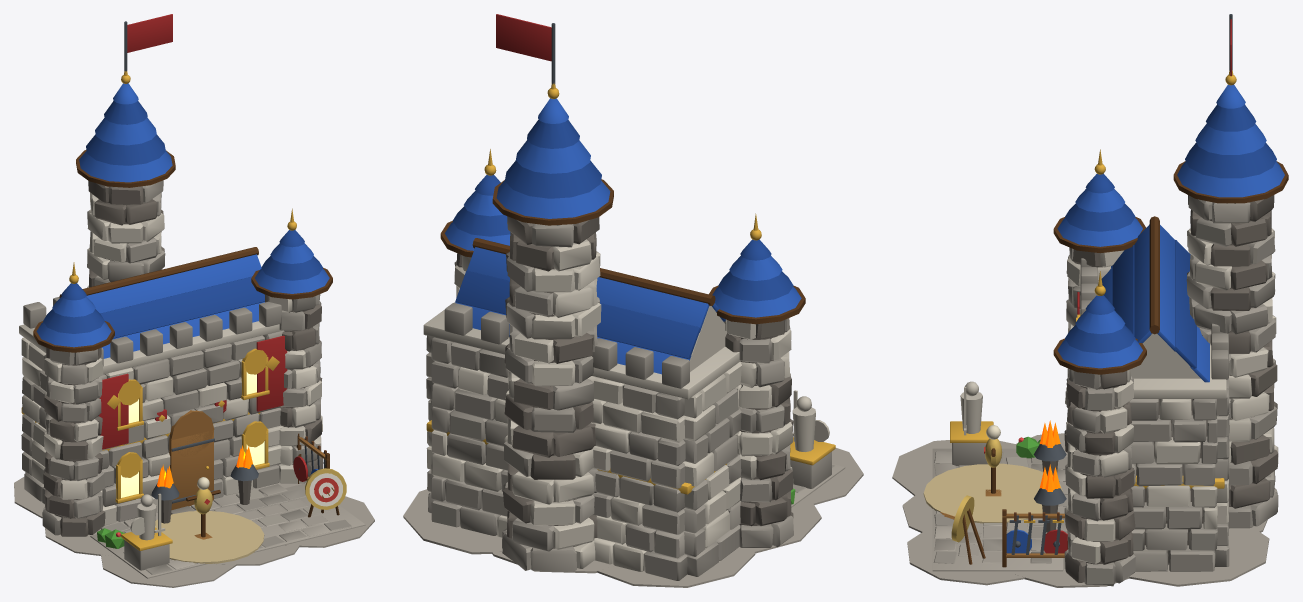
The model's file is koszary_poz20.glb.
3 views of the same model, side by side, from view 1: azimuth 30°, elevation 25°; view 2: azimuth 150°, elevation 25°; view 3: azimuth 270°, elevation 25° (orthographic). The views are drawn at different scales.
Parts seen in each view (by area): view 1: koszary_poz20; view 2: koszary_poz20; view 3: koszary_poz20.
Part boxes in pixels (x1=…): koszary_poz20: x1=14, y1=14, x2=374, y2=587; koszary_poz20: x1=403, y1=14, x2=863, y2=587; koszary_poz20: x1=892, y1=14, x2=1288, y2=587.
Size of the model in its own units: 8.74 by 12.73 by 9.09.
